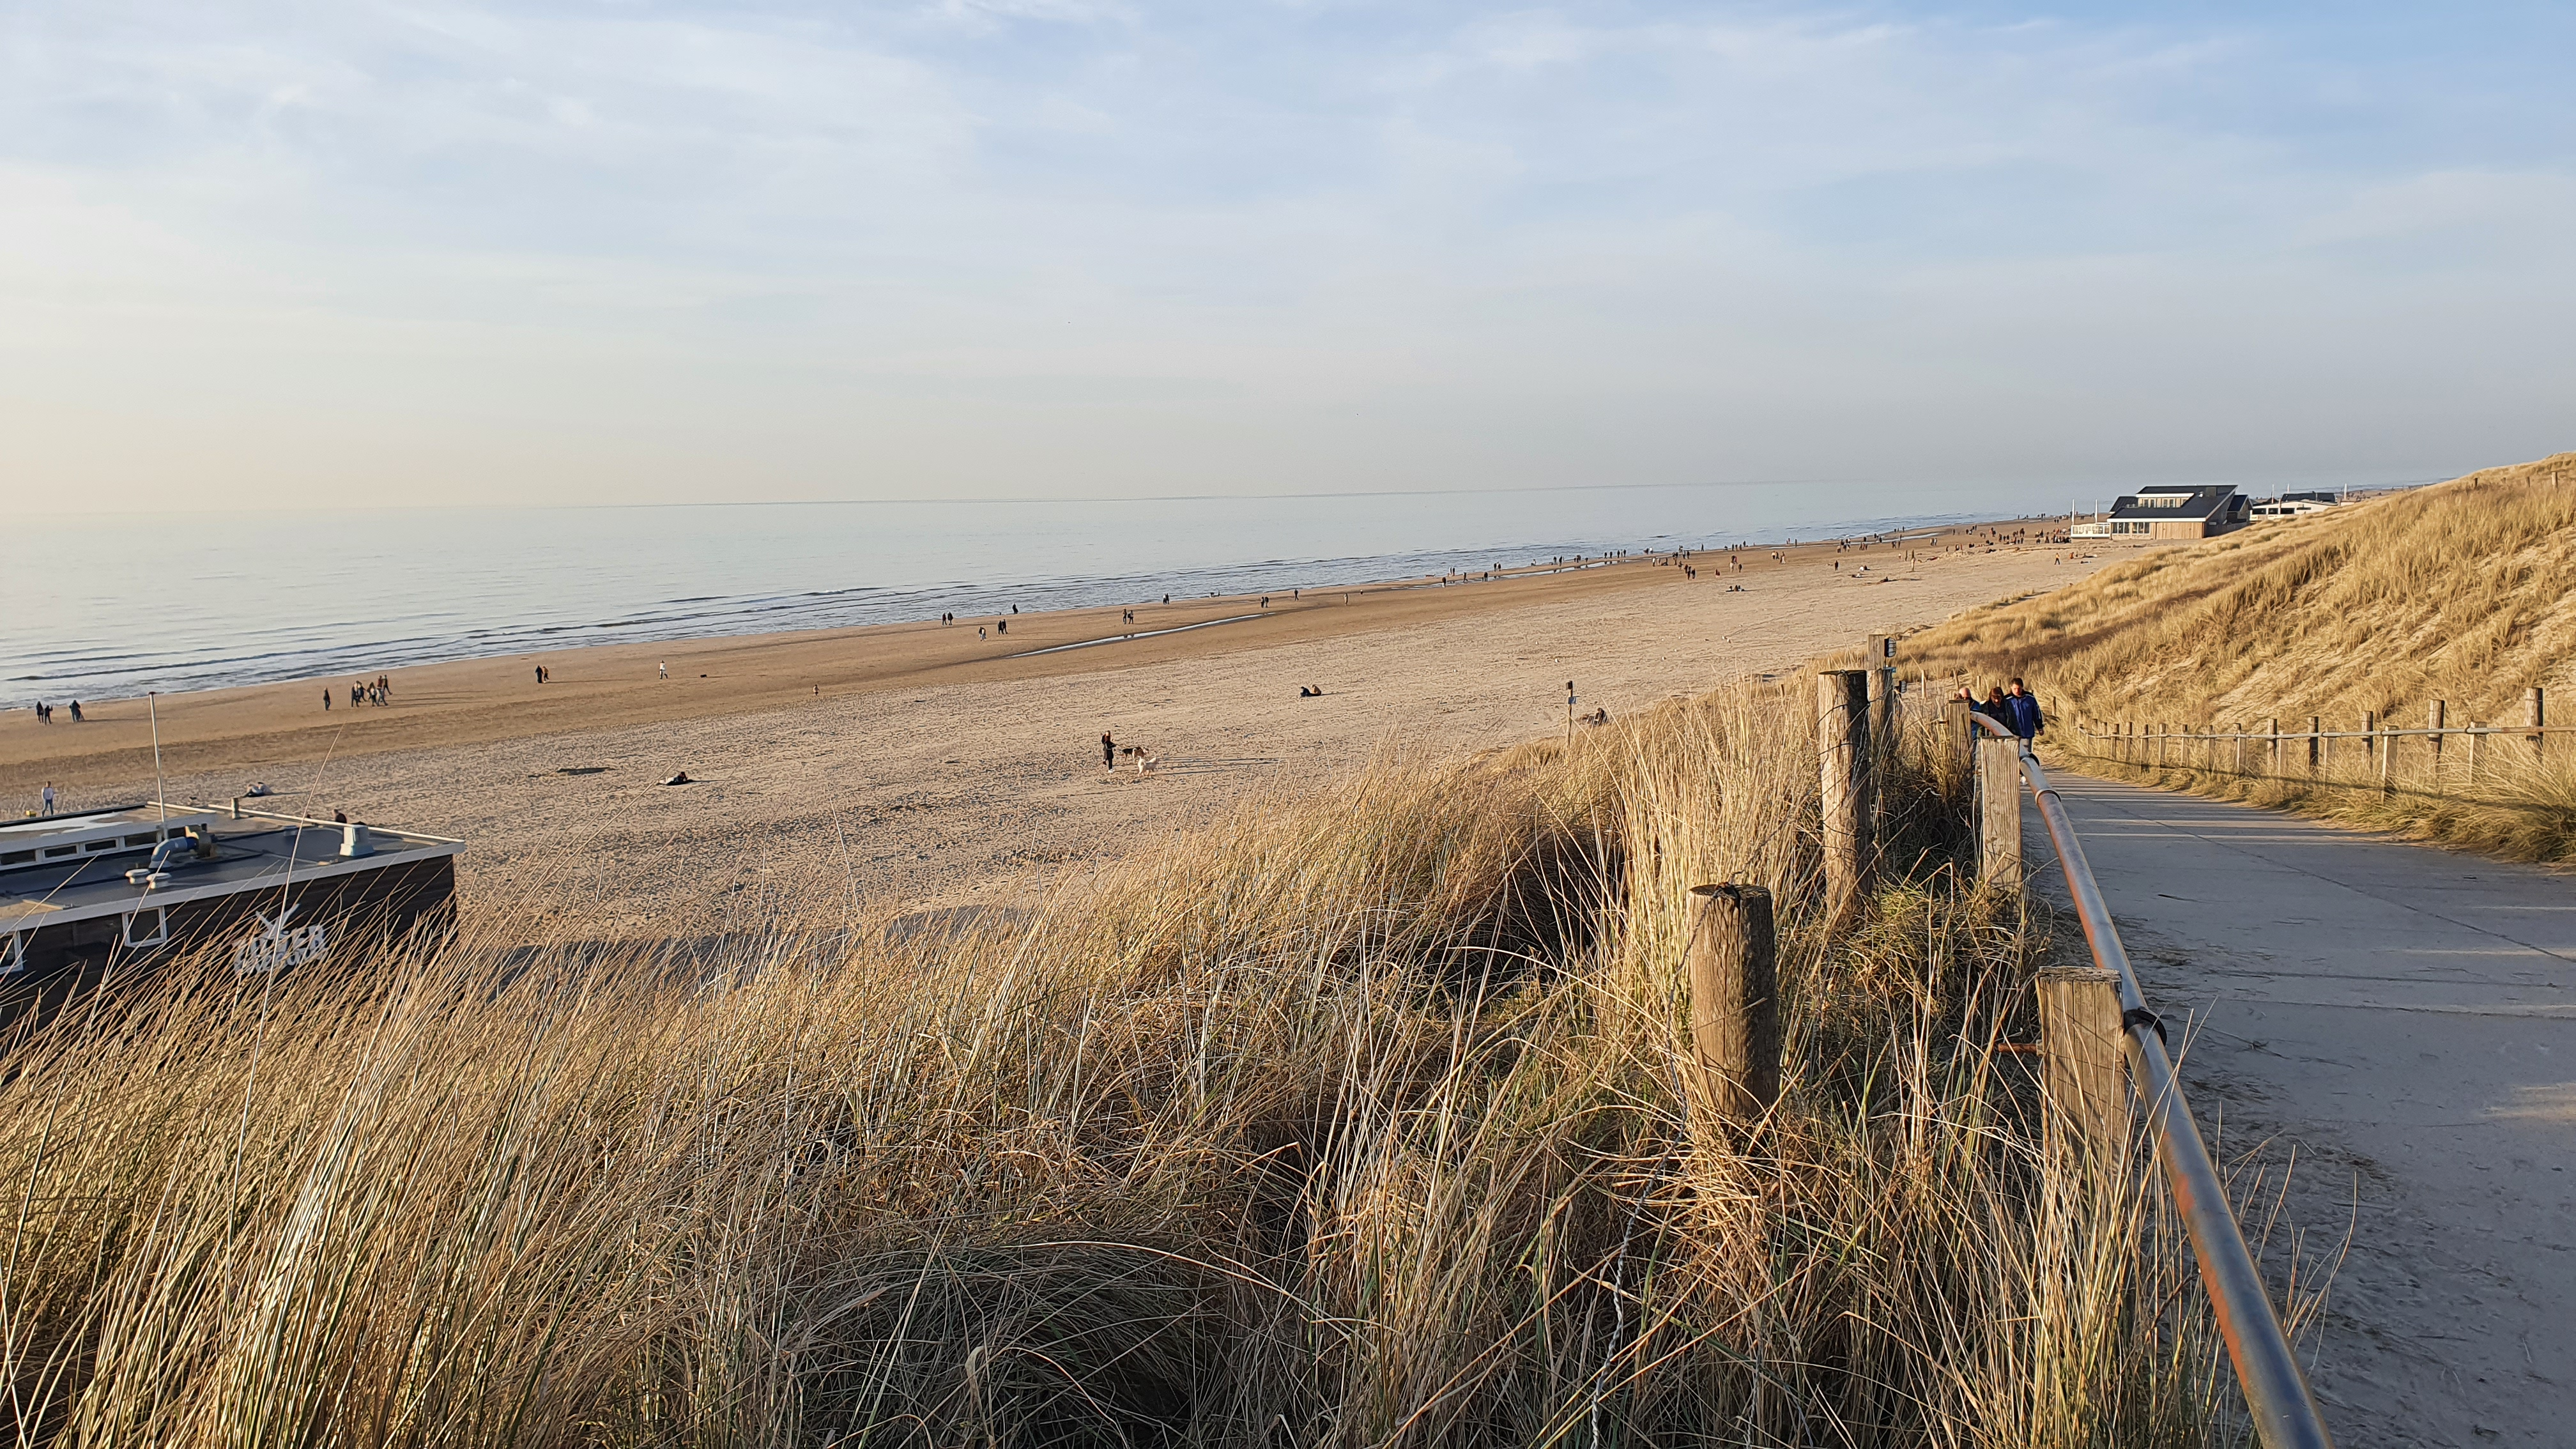pad: (1944, 690, 2576, 1277)
